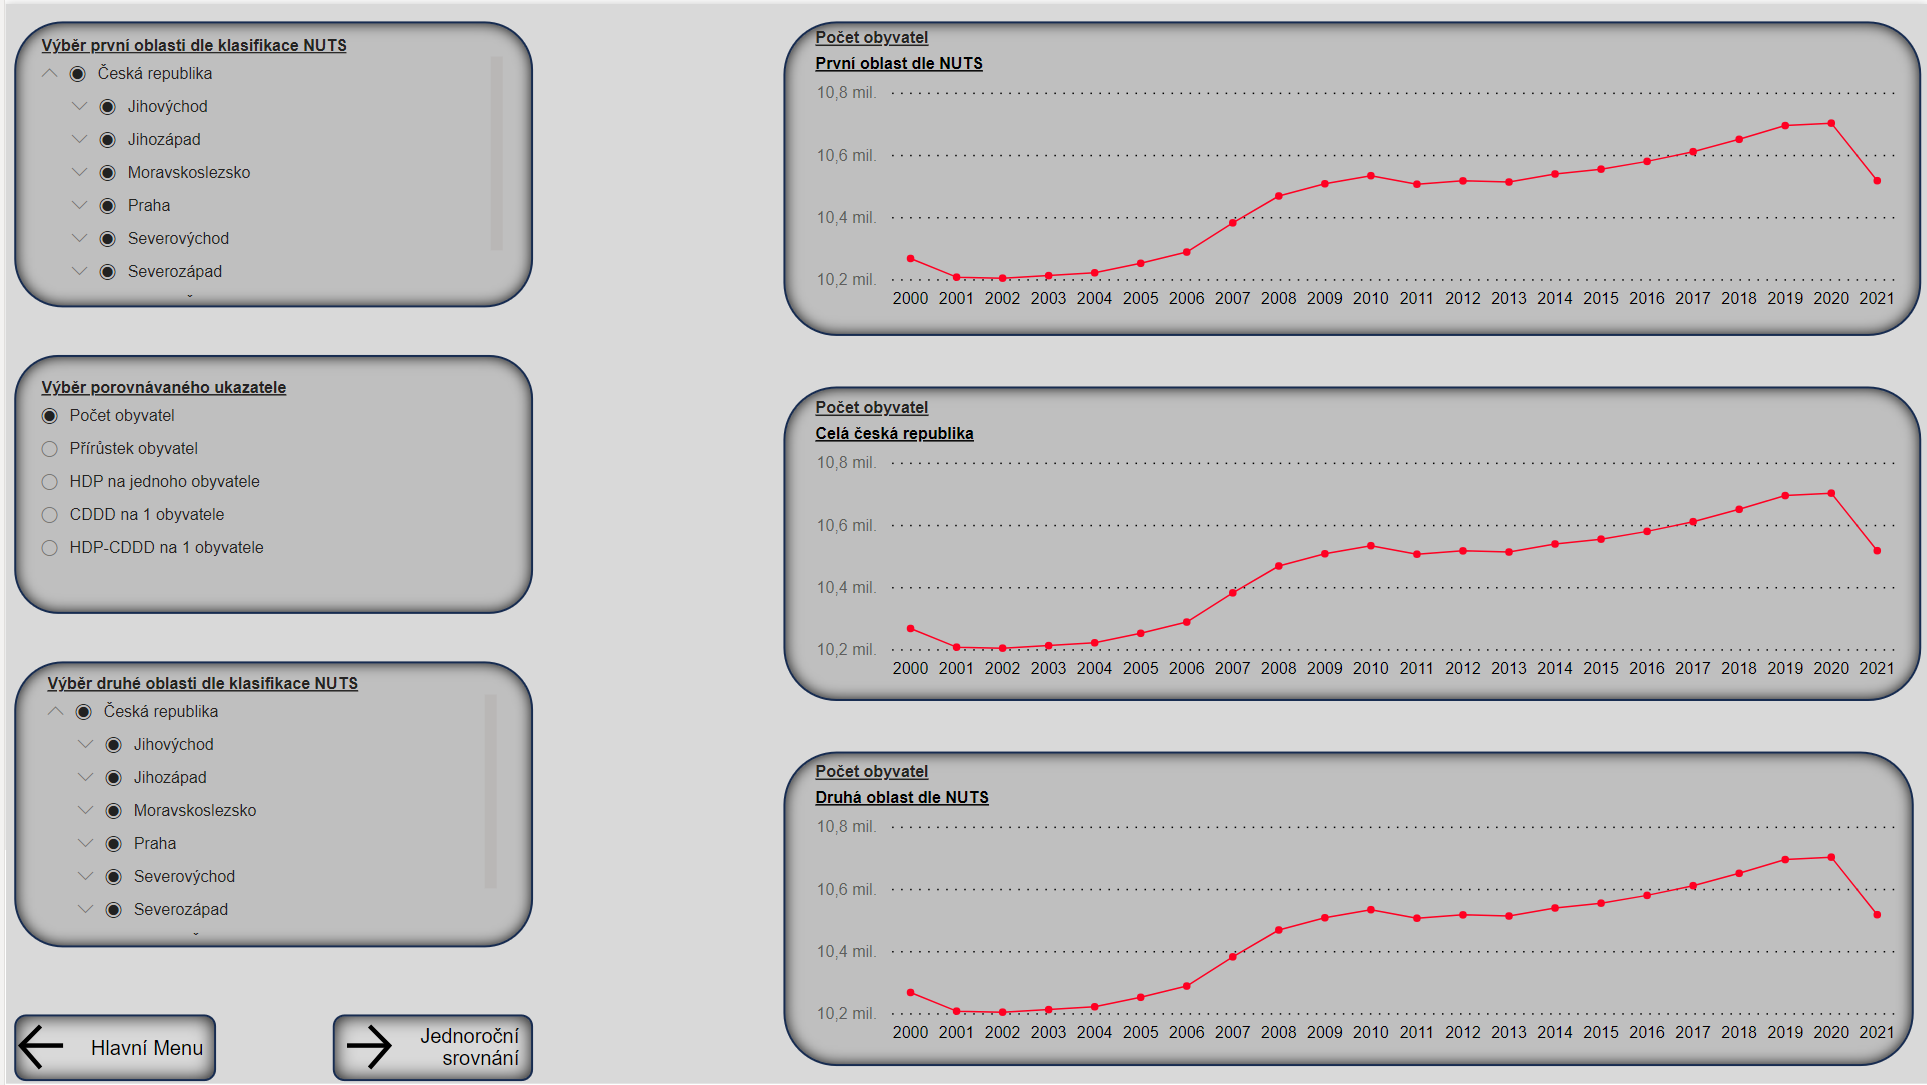

What the dashboard file says about the page in this screenshot:
{"tool":"powerbi","page":{"name":"Dlouhodobé srovnání","canvas":[1280,720],"ordinal":2},"visuals":[{"type":"slicer","fields":{"Values":["NUTS_hierarchie.Nuts_hierarchie.NUTS 1","NUTS_hierarchie.Nuts_hierarchie.NUTS 2","NUTS_hierarchie.Nuts_hierarchie.NUTS 3"]},"box":[11.3,16,325.3,184],"z":0},{"type":"slicer","fields":{"Values":["NUTS_hierarchie.Nuts_hierarchie.NUTS 1","NUTS_hierarchie.Nuts_hierarchie.NUTS 2","NUTS_hierarchie.Nuts_hierarchie.NUTS 3"]},"box":[15.3,440.7,317.3,184],"z":1000},{"type":"lineChart","fields":{"Y":["Kraj_obyvatelstvo.Počet obyvatel"],"Category":["Rok.Rok"]},"box":[534.7,16,730,195],"z":2000},{"type":"slicer","fields":{"Values":["Výběr sledovaného ukazatele.Výběr sledovaného ukazatele"]},"box":[11.3,243.3,325.3,150.7],"z":3000},{"type":"lineChart","fields":{"Y":["Kraj_obyvatelstvo.Počet obyvatel"],"Category":["Rok.Rok"]},"box":[534.7,262,730,195],"z":4000},{"type":"lineChart","fields":{"Y":["Kraj_obyvatelstvo.Počet obyvatel"],"Category":["Rok.Rok"]},"box":[534.7,504.7,730,195],"z":5000},{"type":"actionButton","box":[4.7,674,131.3,40],"z":6000},{"type":"actionButton","box":[221.3,674,124.7,40],"z":7000}]}

Visuals, with their boxes in screenshot pixels (x1, y1, x2, y2):
slicer - NUTS_hierarchie.Nuts_hierarchie.NUTS 1 x NUTS_hierarchie.Nuts_hierarchie.NUTS 2: select_region(7, 19, 490, 292)
slicer - NUTS_hierarchie.Nuts_hierarchie.NUTS 1 x NUTS_hierarchie.Nuts_hierarchie.NUTS 2: select_region(13, 649, 484, 922)
lineChart - Kraj_obyvatelstvo.Počet obyvatel x Rok.Rok: select_region(784, 19, 1868, 308)
slicer - Výběr sledovaného ukazatele.Výběr sledovaného ukazatele: select_region(7, 356, 490, 580)
lineChart - Kraj_obyvatelstvo.Počet obyvatel x Rok.Rok: select_region(784, 384, 1868, 673)
lineChart - Kraj_obyvatelstvo.Počet obyvatel x Rok.Rok: select_region(784, 744, 1868, 1034)
actionButton: select_region(0, 996, 192, 1055)
actionButton: select_region(319, 996, 504, 1055)
